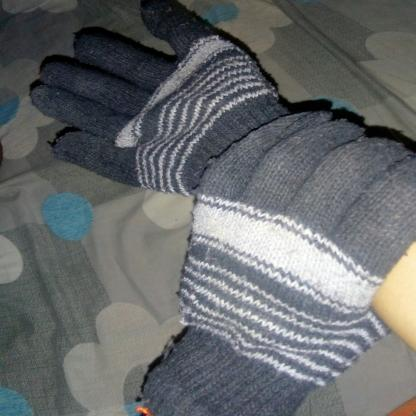gloved_hand: (138, 108, 414, 414), (16, 0, 364, 196)
